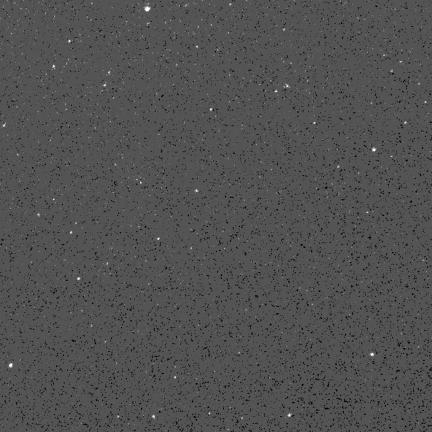blob: (145, 6, 150, 12), (9, 363, 13, 367), (77, 277, 81, 281), (70, 231, 73, 235), (370, 353, 374, 356), (372, 148, 376, 151), (157, 238, 160, 241), (196, 46, 199, 49)
